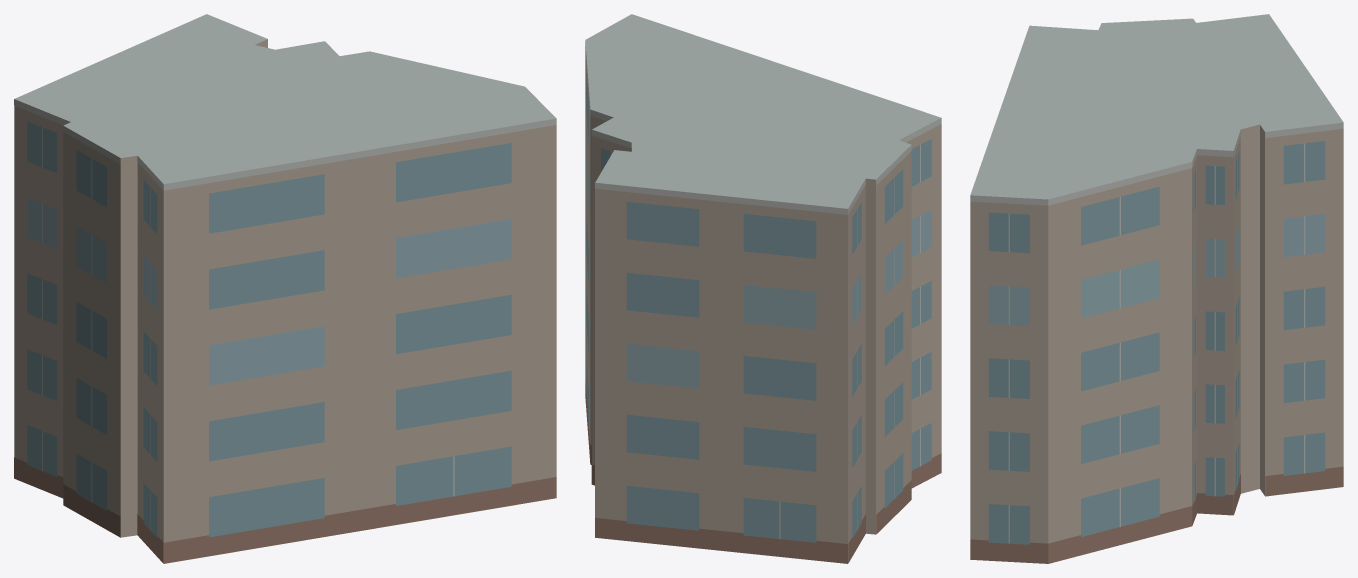
The model's file is survey-upis-32870678.glb.
The picture shows the model from 3 angles, left to right: view 1: azimuth 30°, elevation 25°; view 2: azimuth 150°, elevation 25°; view 3: azimuth 270°, elevation 25°; orthographic projection. The views are drawn at different scales.
Parts seen in each view (by area): view 1: survey-upis-32870678.tmp; view 2: survey-upis-32870678.tmp; view 3: survey-upis-32870678.tmp.
Boxes of the visible parts, <box> form: survey-upis-32870678.tmp: <box>14,14,556,563</box>; survey-upis-32870678.tmp: <box>585,14,941,563</box>; survey-upis-32870678.tmp: <box>970,14,1343,563</box>.
Size of the model in its own units: 15.62 by 14.3 by 13.3.
